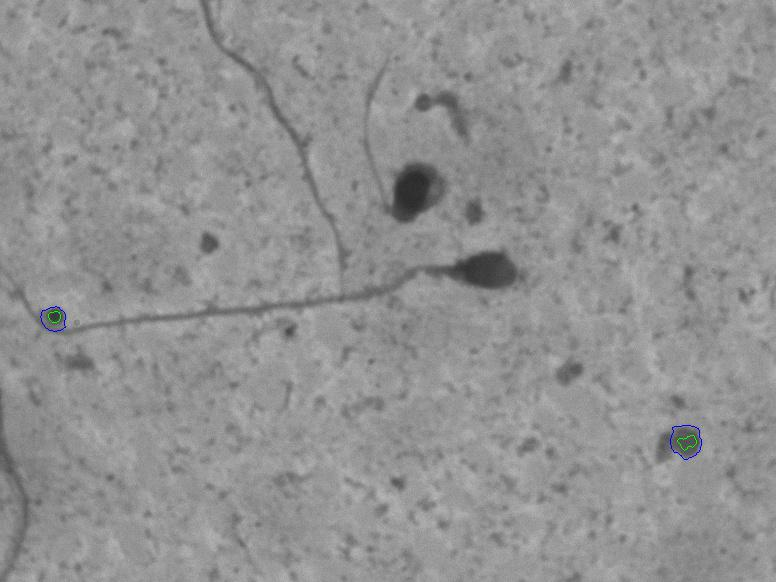Abnormal: (58, 243, 544, 369)
